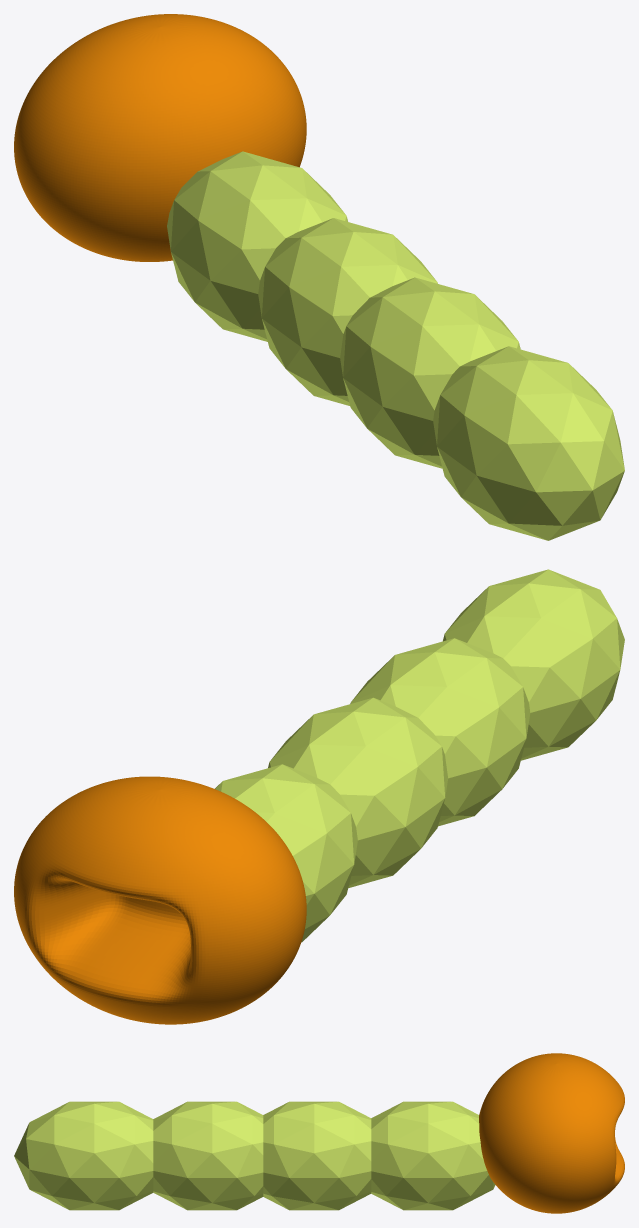
Rendered from Worm.fbx.
3 views of the same model, one above another, from view 1: azimuth 30°, elevation 25°; view 2: azimuth 150°, elevation 25°; view 3: azimuth 270°, elevation 25° (orthographic). The views are drawn at different scales.
Visible parts, largest first — view 1: Esfera icosaédrica, Esfera UV; view 2: Esfera icosaédrica, Esfera UV; view 3: Esfera icosaédrica, Esfera UV.
Part boxes in pixels (x1,y1,x2,y2): Esfera icosaédrica: [167, 151, 624, 540]; Esfera UV: [14, 14, 306, 261]; Esfera icosaédrica: [215, 569, 624, 942]; Esfera UV: [14, 776, 306, 1024]; Esfera icosaédrica: [14, 1101, 495, 1210]; Esfera UV: [479, 1053, 624, 1213].
Bounding box in the file's own units: 238 × 198 × 760.
